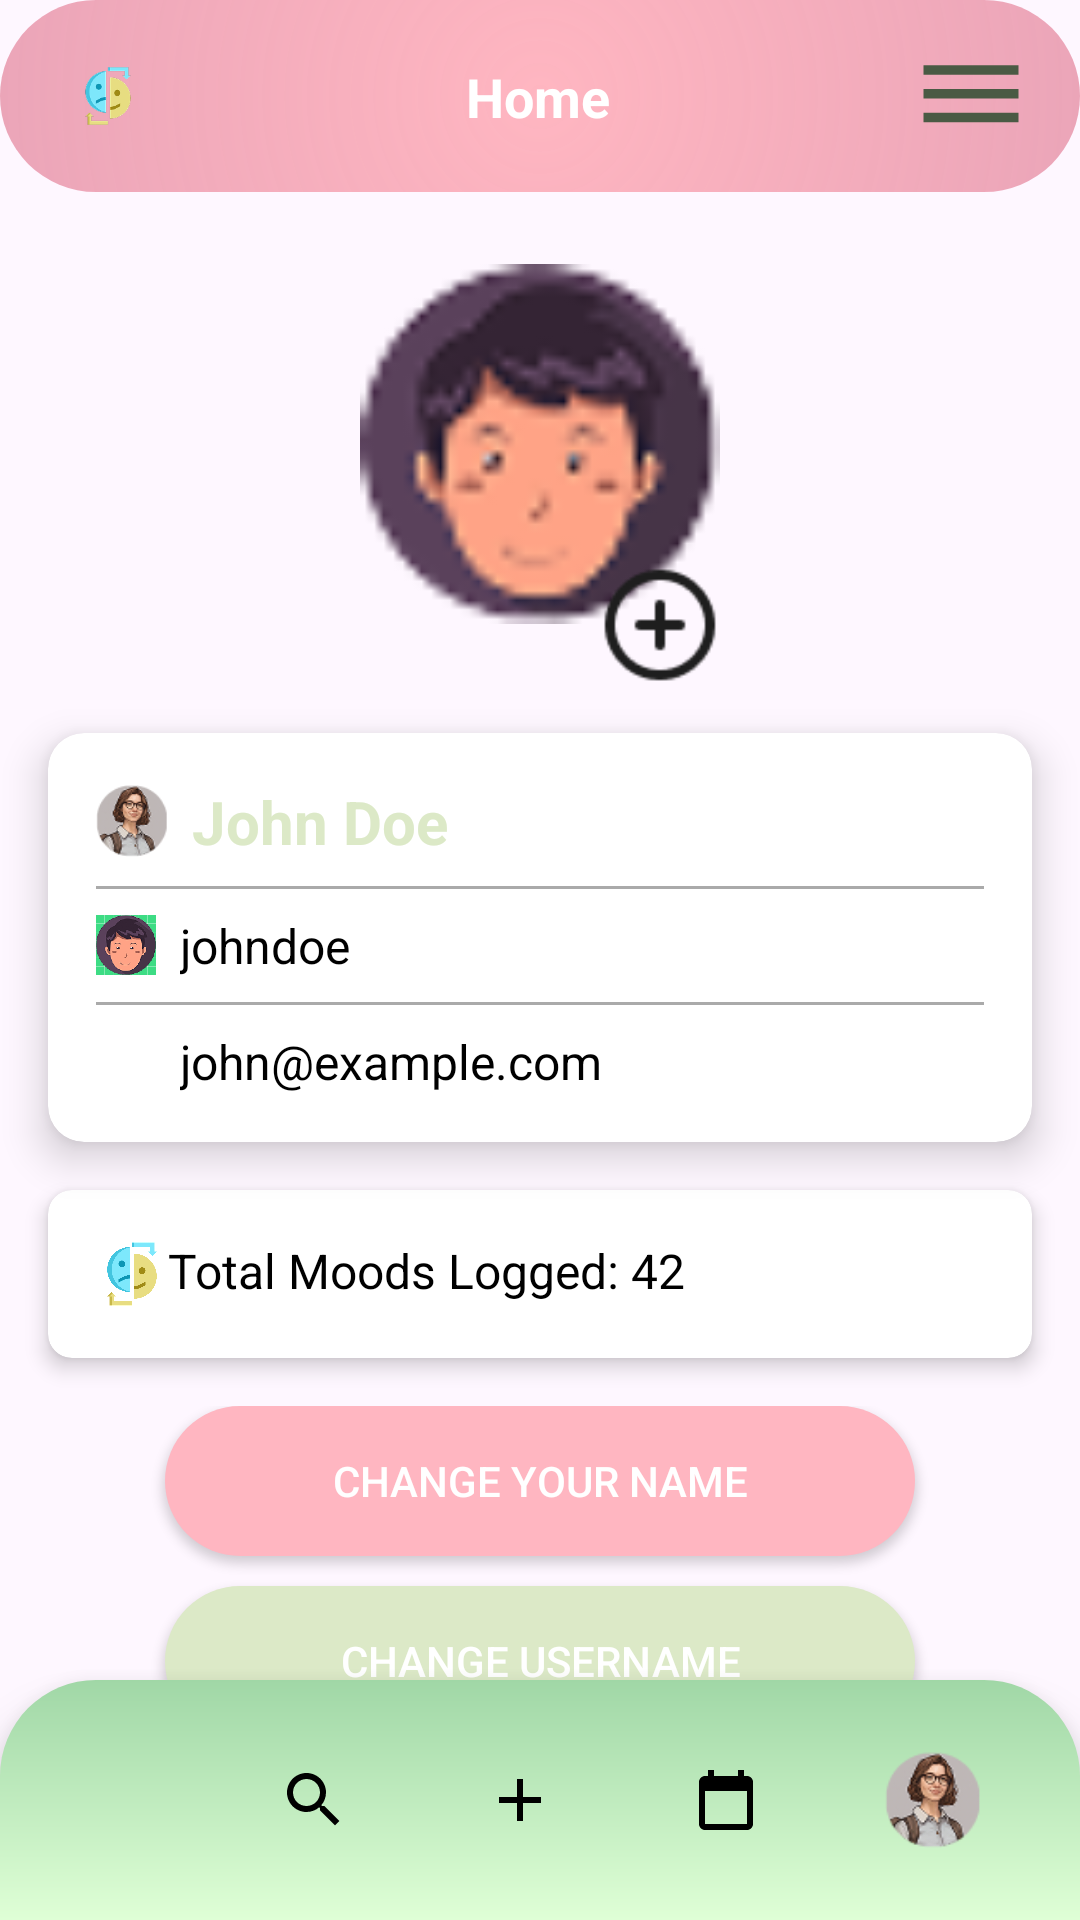

Locate icon controls on the screen. Image size 1080×1920, boxes as (x1, y1, x2, y2).
Add Photo: (600, 565, 716, 681)
menu: (923, 65, 1019, 123)
